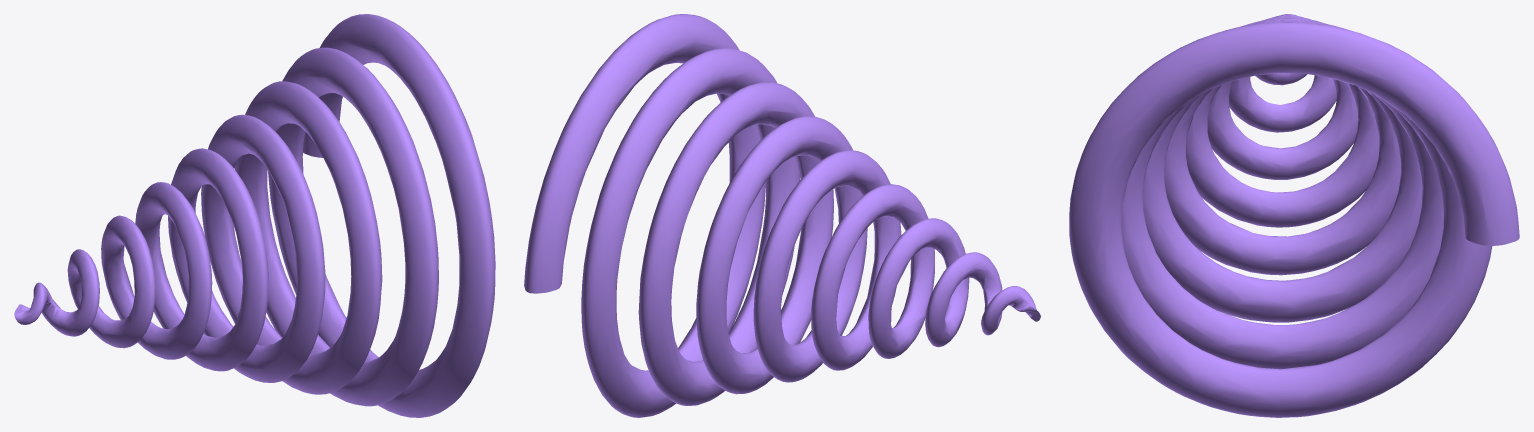
File: spiral_snowflakes_mobile.glb
3 renders of one model, left to right at view 1: azimuth 30°, elevation 25°; view 2: azimuth 150°, elevation 25°; view 3: azimuth 270°, elevation 25°, orthographic. The views are drawn at different scales.
Parts seen in each view (by area): view 1: Object_2; view 2: Object_2; view 3: Object_2.
Part boxes in pixels (x1,y1,x2,y2): Object_2: (14,14,495,417); Object_2: (524,14,1040,417); Object_2: (1069,14,1519,417).
Bounding box in the file's own units: 63.23 × 53.66 × 53.93.
